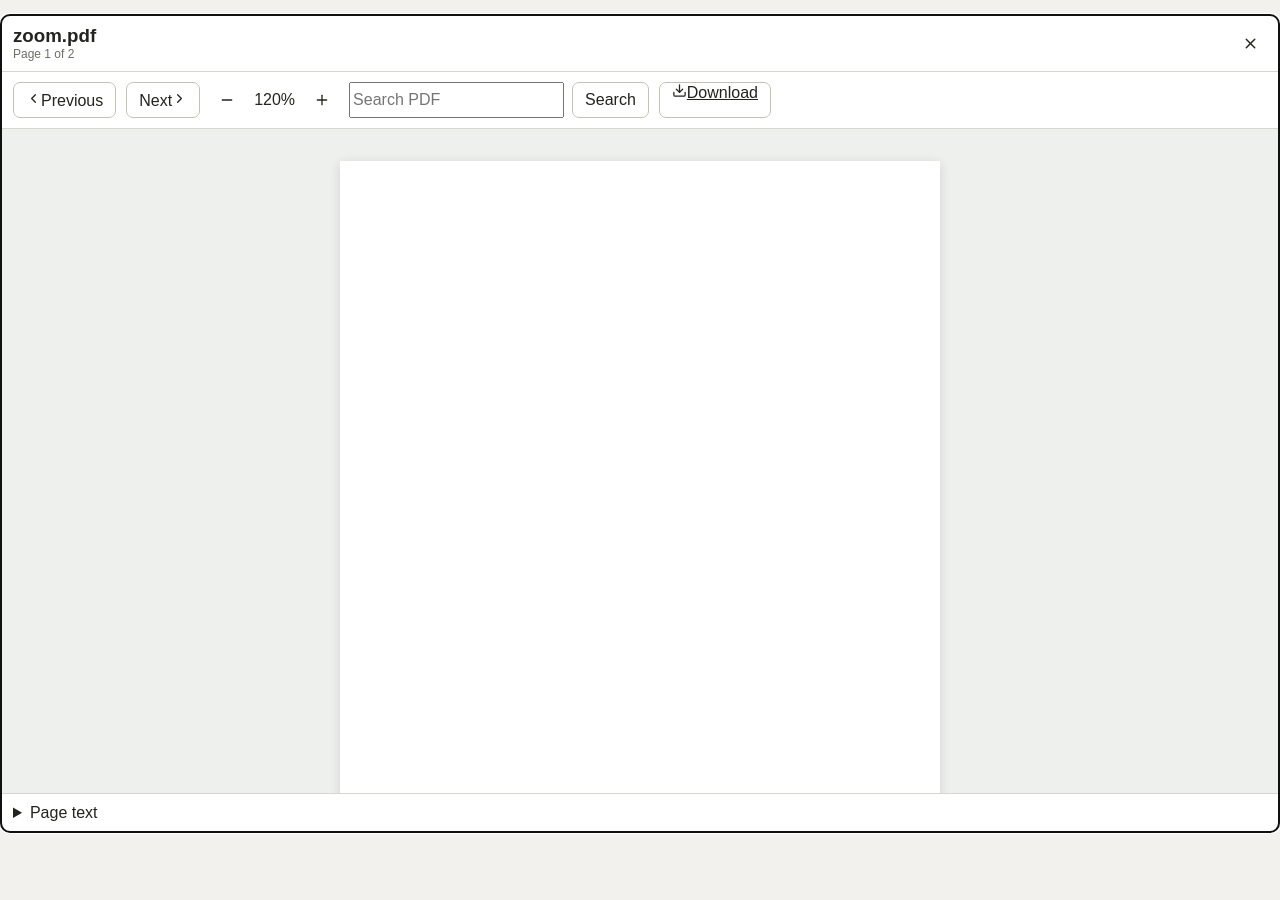
Test case: cancels an unfinished canvas render before zooming
Expected: the text "Page 1 of 2" is shown, [13,47,74,61]
Click the button named "Zoom in" at (322, 100), box [305,83,339,117]
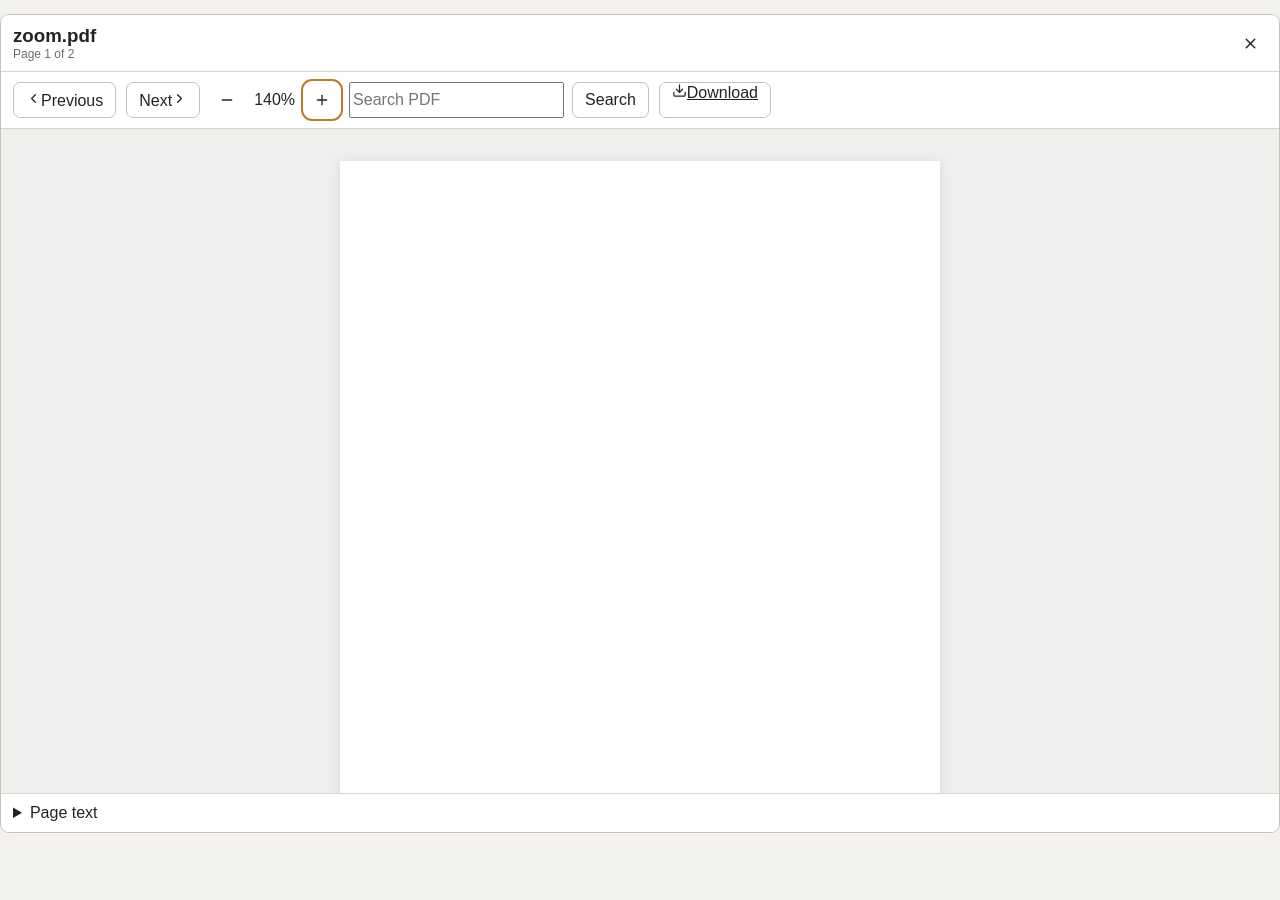
Expected: the text "140%" is shown, [254,91,295,109]
